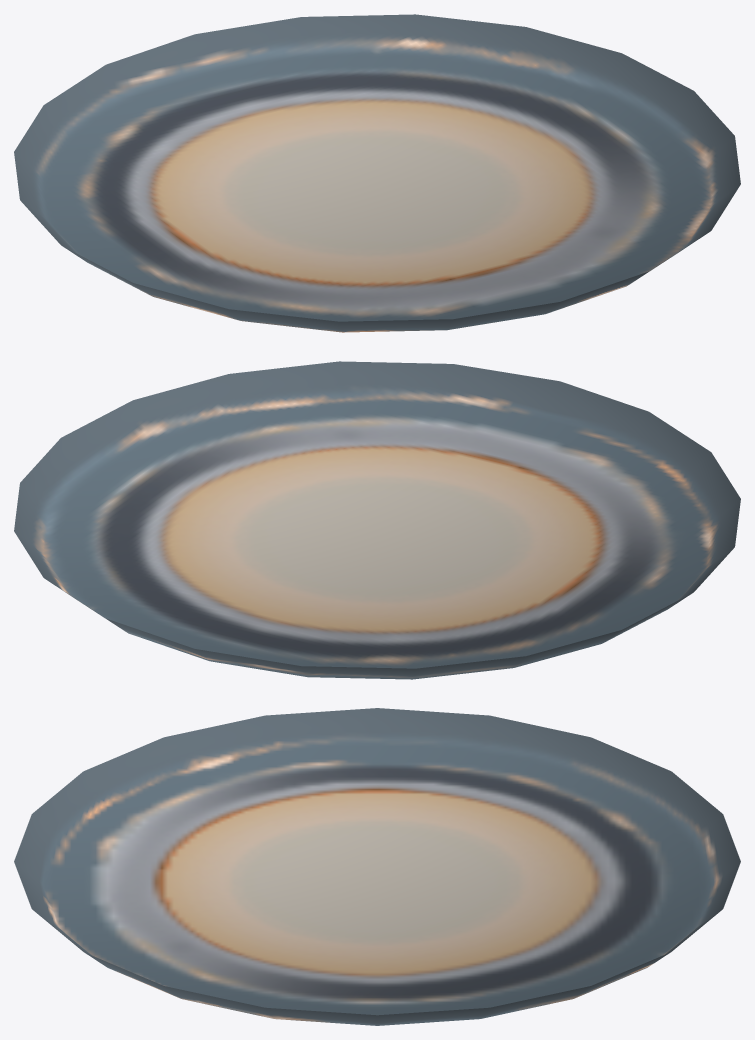
Rendered from YYZL_Deng2_fbx.FBX.
The picture shows the model from 3 angles, top to bottom: view 1: azimuth 30°, elevation 25°; view 2: azimuth 150°, elevation 25°; view 3: azimuth 270°, elevation 25°; orthographic projection.
Visible parts, largest first — view 1: Object053; view 2: Object053; view 3: Object053.
Boxes of the visible parts, box(x1,y1,x2,y2) form: Object053: box(14, 14, 740, 332); Object053: box(14, 361, 740, 679); Object053: box(14, 708, 740, 1025).
Bounding box in the file's own units: 0.2963 × 0.0105 × 0.2963.
